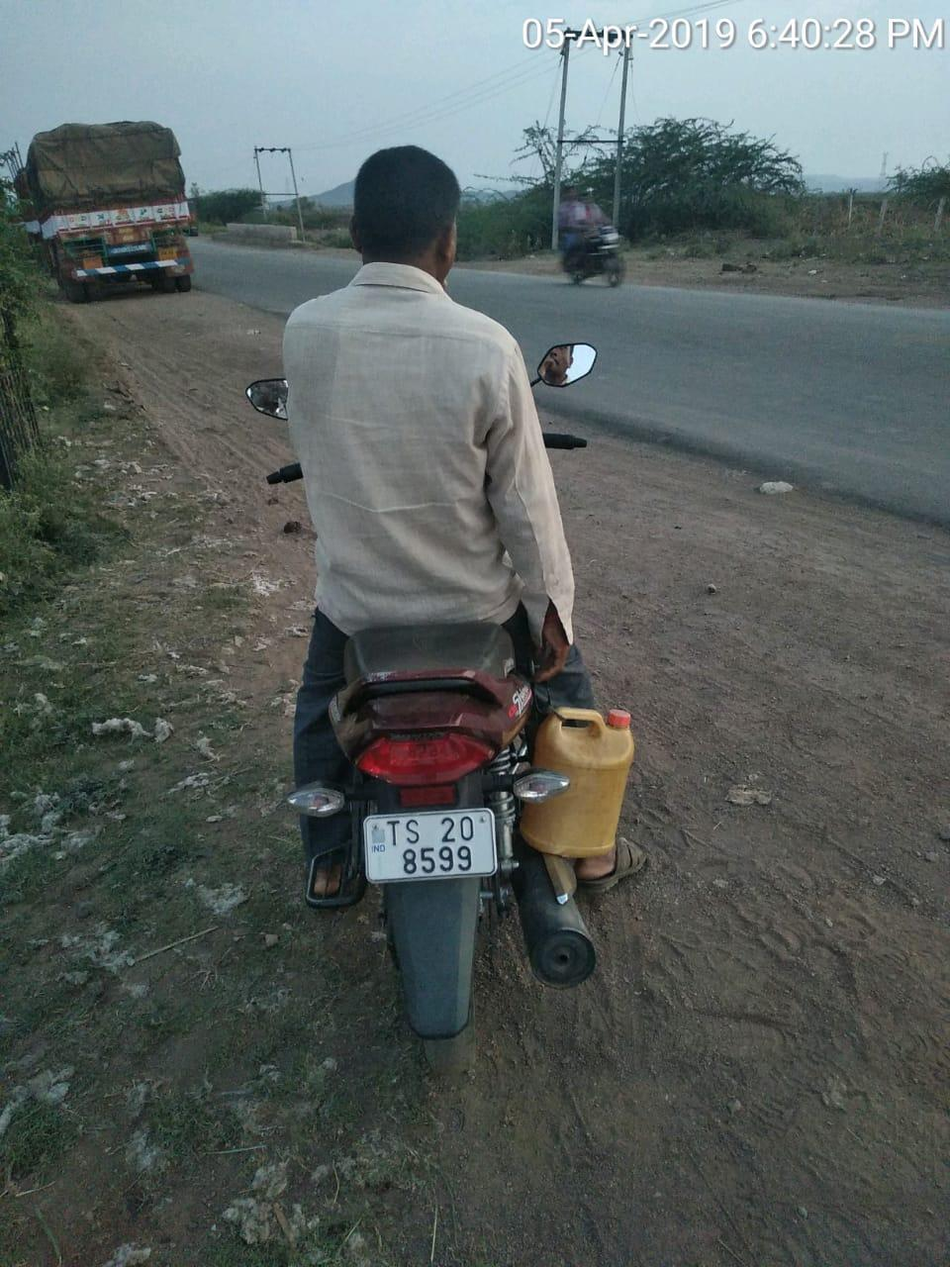plate: (347, 780, 517, 901)
